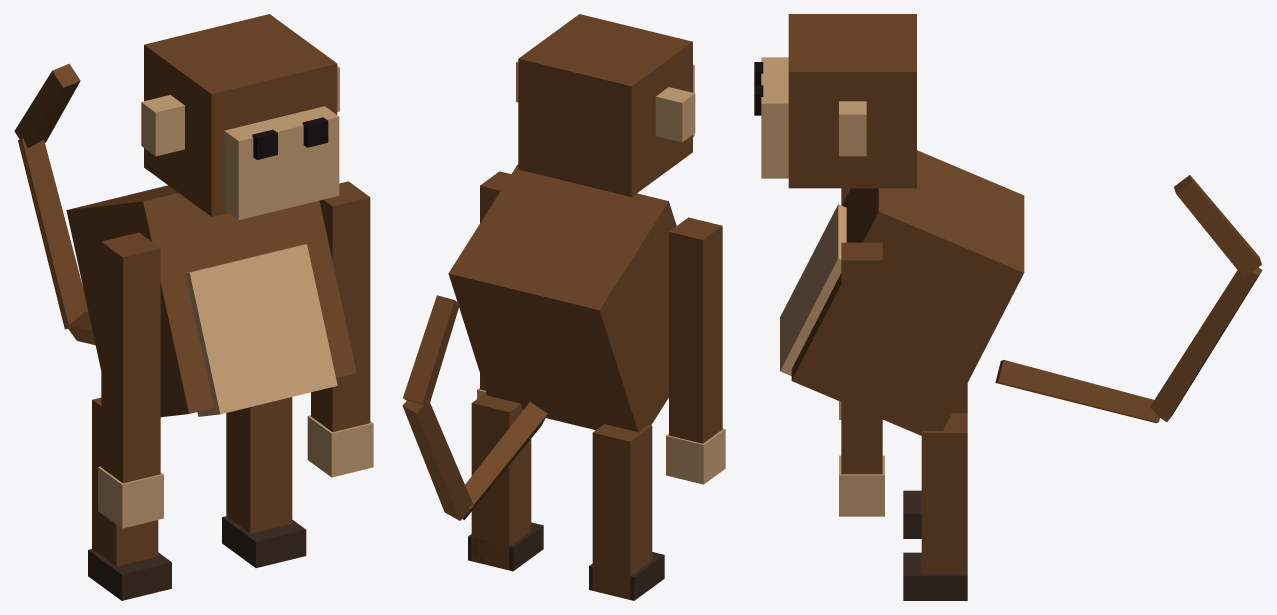
File: monkey.glb
3 renders of one model, left to right at view 1: azimuth 30°, elevation 25°; view 2: azimuth 150°, elevation 25°; view 3: azimuth 270°, elevation 25°, orthographic. The views are drawn at different scales.
Visible parts, largest first — view 1: Body_fur_brown, Head_fur_brown, Body_fur_light, Leg2_fur_brown, Head_fur_light, Leg3_fur_brown, Leg1_fur_brown, Tail_fur_brown, Leg0_fur_brown, Leg3_fur_light, Leg2_fur_light, Leg1_fur_dark (+2 smaller); view 2: Body_fur_brown, Head_fur_brown, Leg2_fur_brown, Leg0_fur_brown, Tail_fur_brown, Leg1_fur_brown, Leg2_fur_light, Head_fur_light, Leg1_fur_dark, Leg0_fur_dark, Leg3_fur_brown; view 3: Body_fur_brown, Head_fur_brown, Tail_fur_brown, Leg3_fur_brown, Leg1_fur_brown, Head_fur_light, Body_fur_light, Leg1_fur_dark, Leg3_fur_light, Leg0_fur_dark.
Part boxes in pixels (left/top/right/bottom): Body_fur_brown: left=66, top=185, right=356, bottom=417; Head_fur_brown: left=144, top=14, right=337, bottom=216; Body_fur_light: left=185, top=244, right=337, bottom=416; Leg2_fur_brown: left=101, top=232, right=160, bottom=483; Head_fur_light: left=141, top=66, right=339, bottom=219; Leg3_fur_brown: left=311, top=181, right=370, bottom=432; Leg1_fur_brown: left=226, top=397, right=292, bottom=533; Tail_fur_brown: left=14, top=63, right=95, bottom=345; Leg0_fur_brown: left=92, top=397, right=158, bottom=566; Leg3_fur_light: left=307, top=415, right=373, bottom=477; Leg2_fur_light: left=98, top=466, right=163, bottom=528; Leg1_fur_dark: left=222, top=516, right=306, bottom=567; Body_fur_brown: left=448, top=164, right=676, bottom=432; Head_fur_brown: left=518, top=14, right=692, bottom=196; Leg2_fur_brown: left=669, top=217, right=722, bottom=443; Leg0_fur_brown: left=592, top=424, right=652, bottom=599; Tail_fur_brown: left=402, top=295, right=547, bottom=520; Leg1_fur_brown: left=471, top=392, right=531, bottom=570; Leg2_fur_light: left=666, top=428, right=725, bottom=484; Head_fur_light: left=516, top=61, right=695, bottom=142; Leg1_fur_dark: left=468, top=522, right=543, bottom=571; Leg0_fur_dark: left=589, top=552, right=664, bottom=600; Leg3_fur_brown: left=480, top=171, right=511, bottom=390; Body_fur_brown: left=791, top=150, right=1024, bottom=435; Head_fur_brown: left=788, top=14, right=916, bottom=188; Tail_fur_brown: left=995, top=175, right=1262, bottom=423; Leg3_fur_brown: left=841, top=242, right=882, bottom=474; Leg1_fur_brown: left=921, top=413, right=967, bottom=573; Head_fur_light: left=761, top=57, right=866, bottom=178; Body_fur_light: left=780, top=204, right=846, bottom=375; Leg1_fur_dark: left=903, top=552, right=967, bottom=600; Leg3_fur_light: left=839, top=455, right=884, bottom=516; Leg0_fur_dark: left=903, top=490, right=921, bottom=538.
Size of the model in its own units: 0.6 by 1.24 by 1.11.
